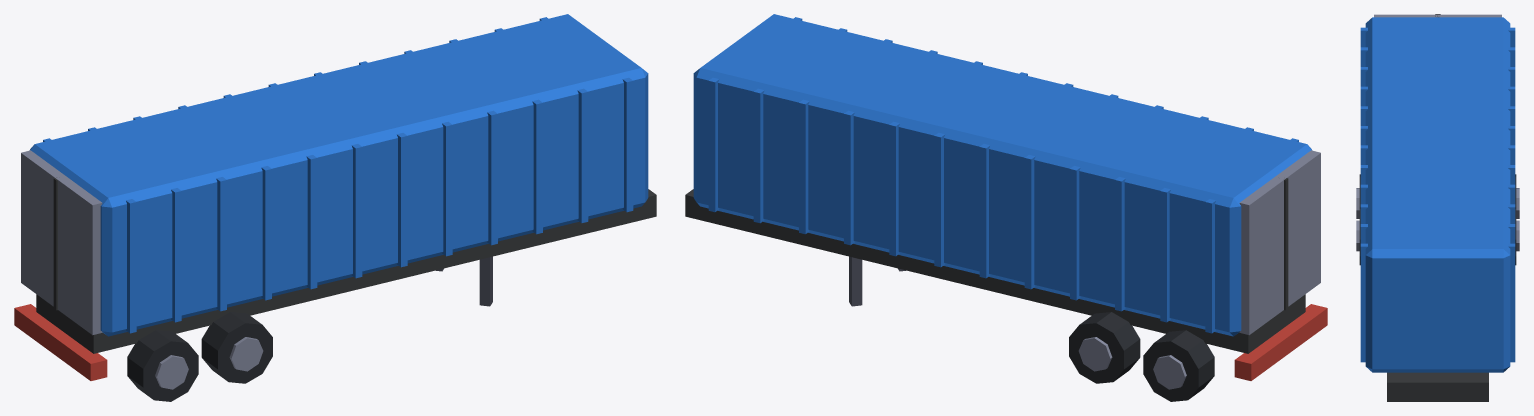
The model's file is semi.trailer-container-blue.glb.
The picture shows the model from 3 angles, left to right: view 1: azimuth 30°, elevation 25°; view 2: azimuth 150°, elevation 25°; view 3: azimuth 270°, elevation 25°; orthographic projection. The views are drawn at different scales.
Visible parts, largest first — view 1: model; view 2: model; view 3: model.
Part boxes in pixels (x1,y1,x2,y2): model: (14,14,656,401); model: (685,14,1327,401); model: (1356,14,1519,401).
Size of the model in its own units: 0.695 by 0.245 by 0.192.
1 material, 1 textured.
